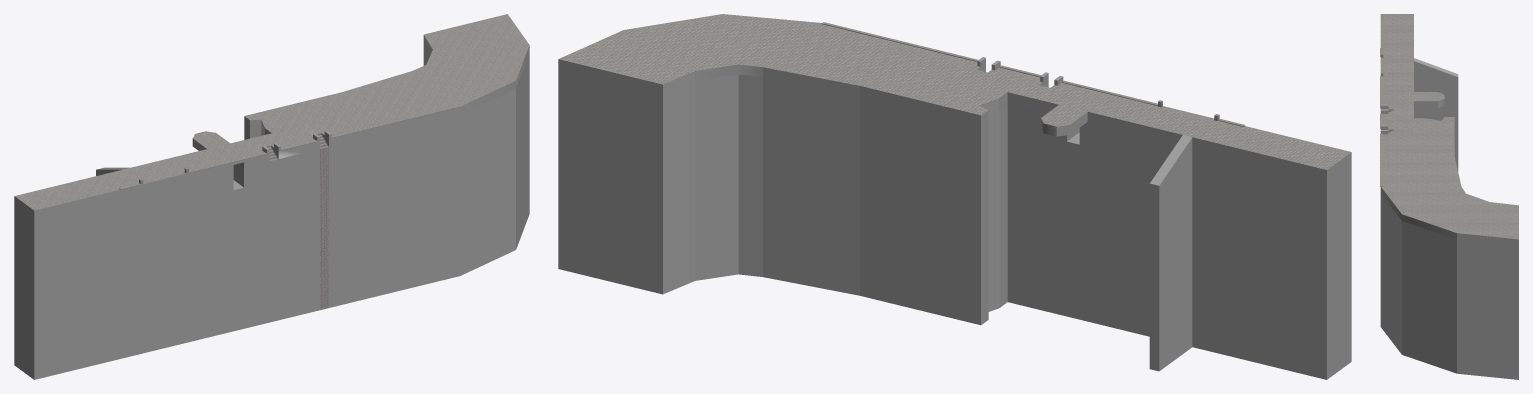
Rendered from GroundLevel_007.fbx.
3 renders of one model, left to right at view 1: azimuth 30°, elevation 25°; view 2: azimuth 150°, elevation 25°; view 3: azimuth 270°, elevation 25°, orthographic. The views are drawn at different scales.
Parts seen in each view (by area): view 1: Downfill, GroundLevel_Main; view 2: Downfill, GroundLevel_Main, Slopey_boi; view 3: Downfill, GroundLevel_Main, Slopey_boi.
Part boxes in pixels (x1=…): Downfill: x1=14, y1=43, x2=529, y2=379; GroundLevel_Main: x1=14, y1=14, x2=529, y2=218; Downfill: x1=558, y1=69, x2=1351, y2=379; GroundLevel_Main: x1=558, y1=14, x2=1351, y2=179; Slopey_boi: x1=1149, y1=135, x2=1192, y2=371; Downfill: x1=1380, y1=193, x2=1518, y2=379; GroundLevel_Main: x1=1380, y1=14, x2=1518, y2=245; Slopey_boi: x1=1414, y1=58, x2=1458, y2=171.
Bounding box in the file's own units: 21056 × 6272 × 5475.
